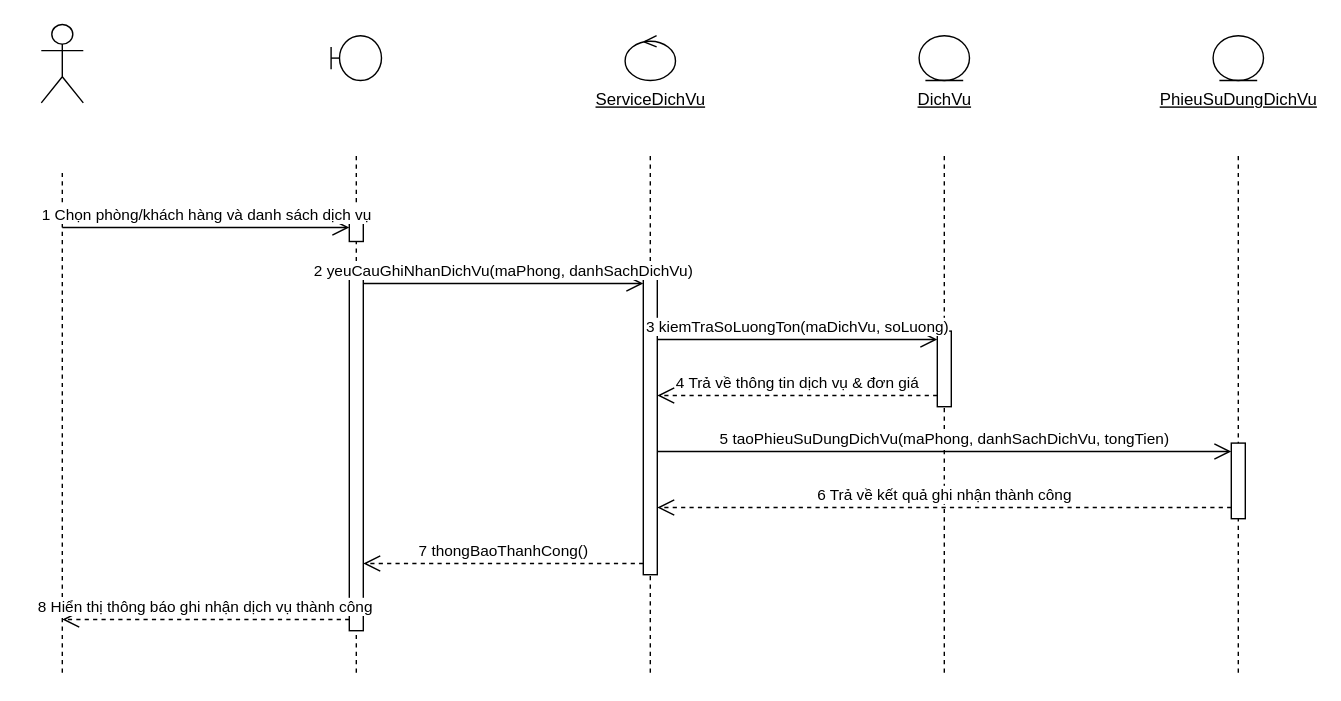
This 1341x701 diagram has some shape labels left out. Each missing label, with the centre of its shape:
FormGhiNhanDichVu: the point at 356,57
Nhân viên: the point at 61,63
